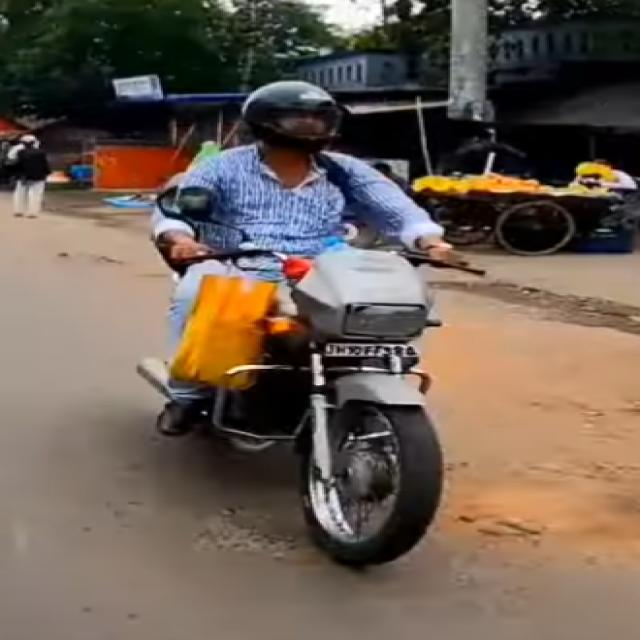normal: (169, 77, 453, 555)
